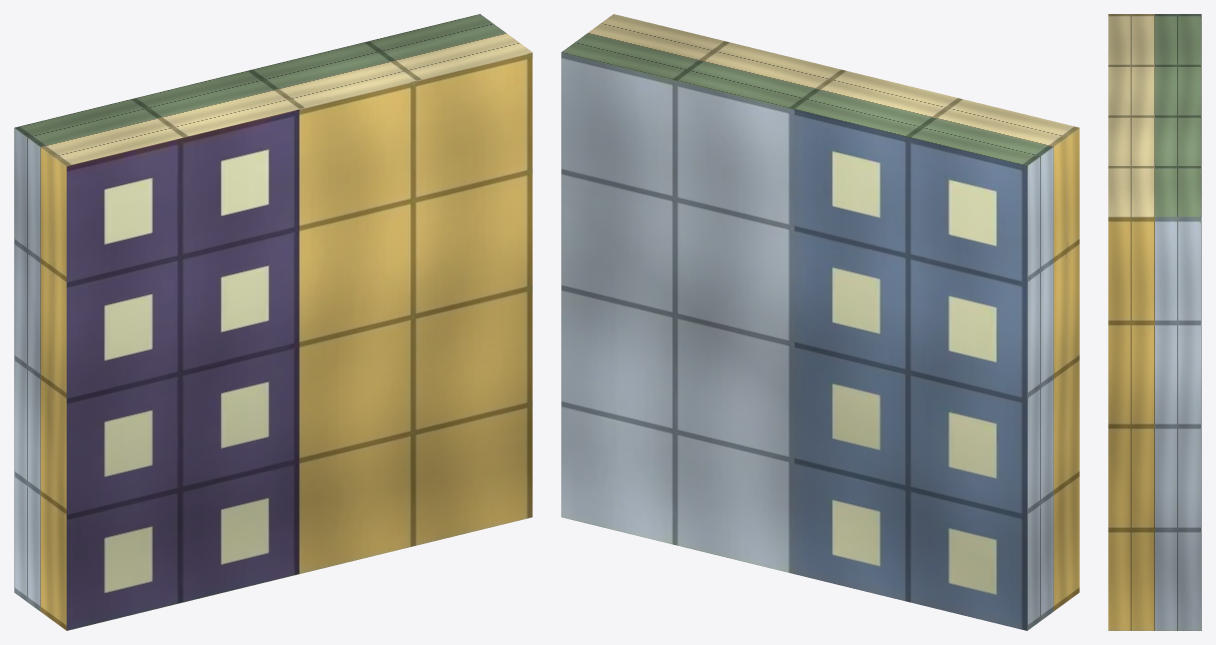
The model's file is gear_small.glb.
3 renders of one model, left to right at view 1: azimuth 30°, elevation 25°; view 2: azimuth 150°, elevation 25°; view 3: azimuth 270°, elevation 25°, orthographic. The views are drawn at different scales.
Visible parts, largest first — view 1: col; view 2: col; view 3: col.
Boxes of the visible parts, x1,y1,x2,y2 form: col: (14, 14, 532, 630); col: (561, 14, 1079, 630); col: (1108, 14, 1201, 630).
Bounding box in the file's own units: 1.22 × 1.17 × 0.2388.
1 material, 1 textured.
